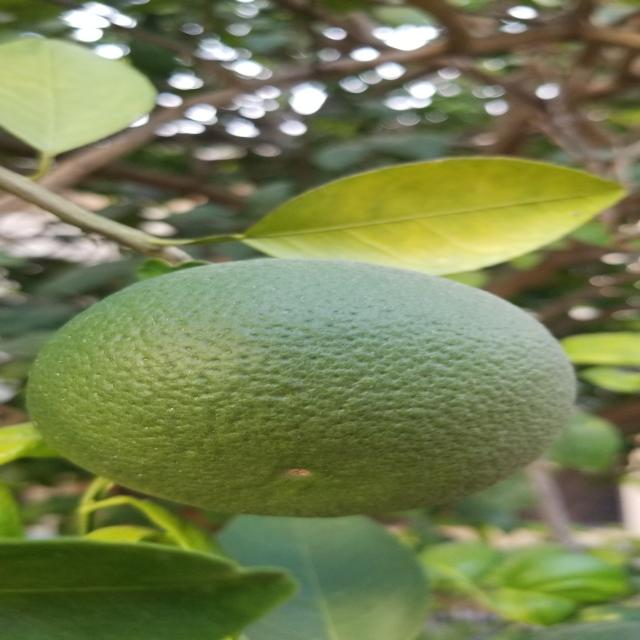Unripe: (13, 257, 585, 522)
